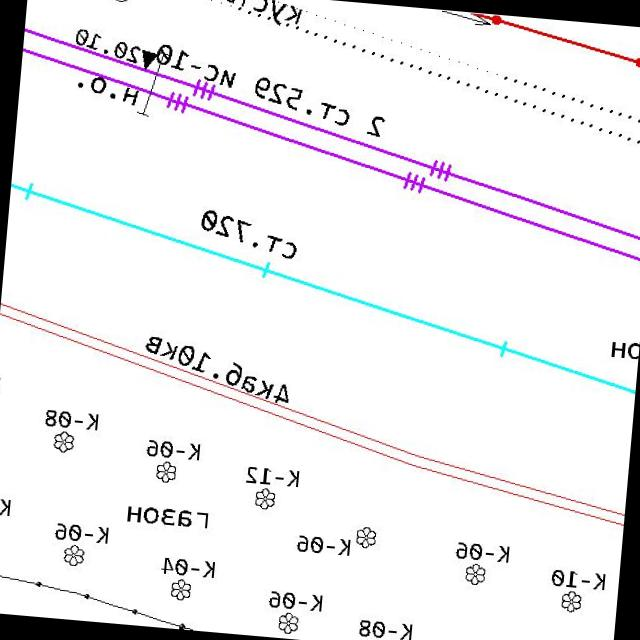bushes: (463, 560, 487, 588), (353, 524, 378, 550), (153, 458, 178, 484), (51, 428, 76, 454), (168, 576, 193, 602), (61, 542, 86, 568), (252, 486, 276, 512), (276, 610, 300, 636), (559, 589, 583, 614)
mark: (138, 48, 158, 73)
